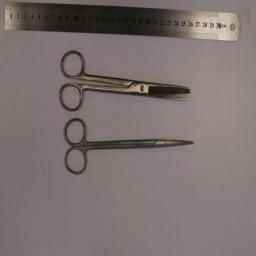Dressing Scissors: (59, 49, 191, 113)
